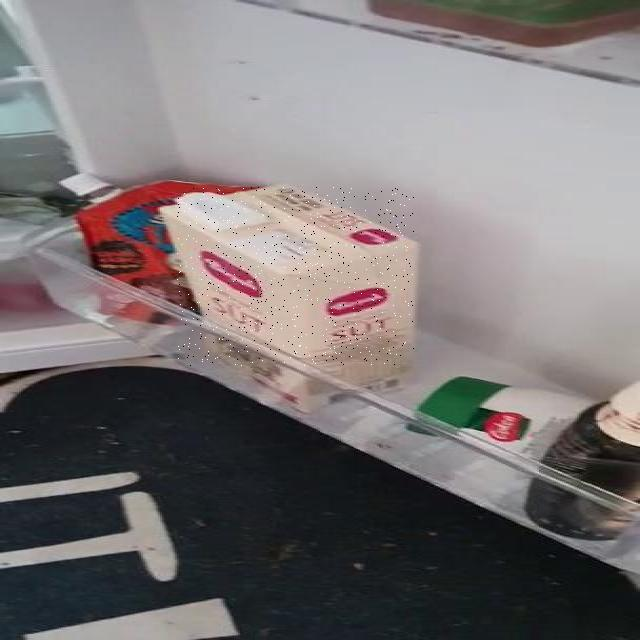milk: (177, 187, 414, 366)
